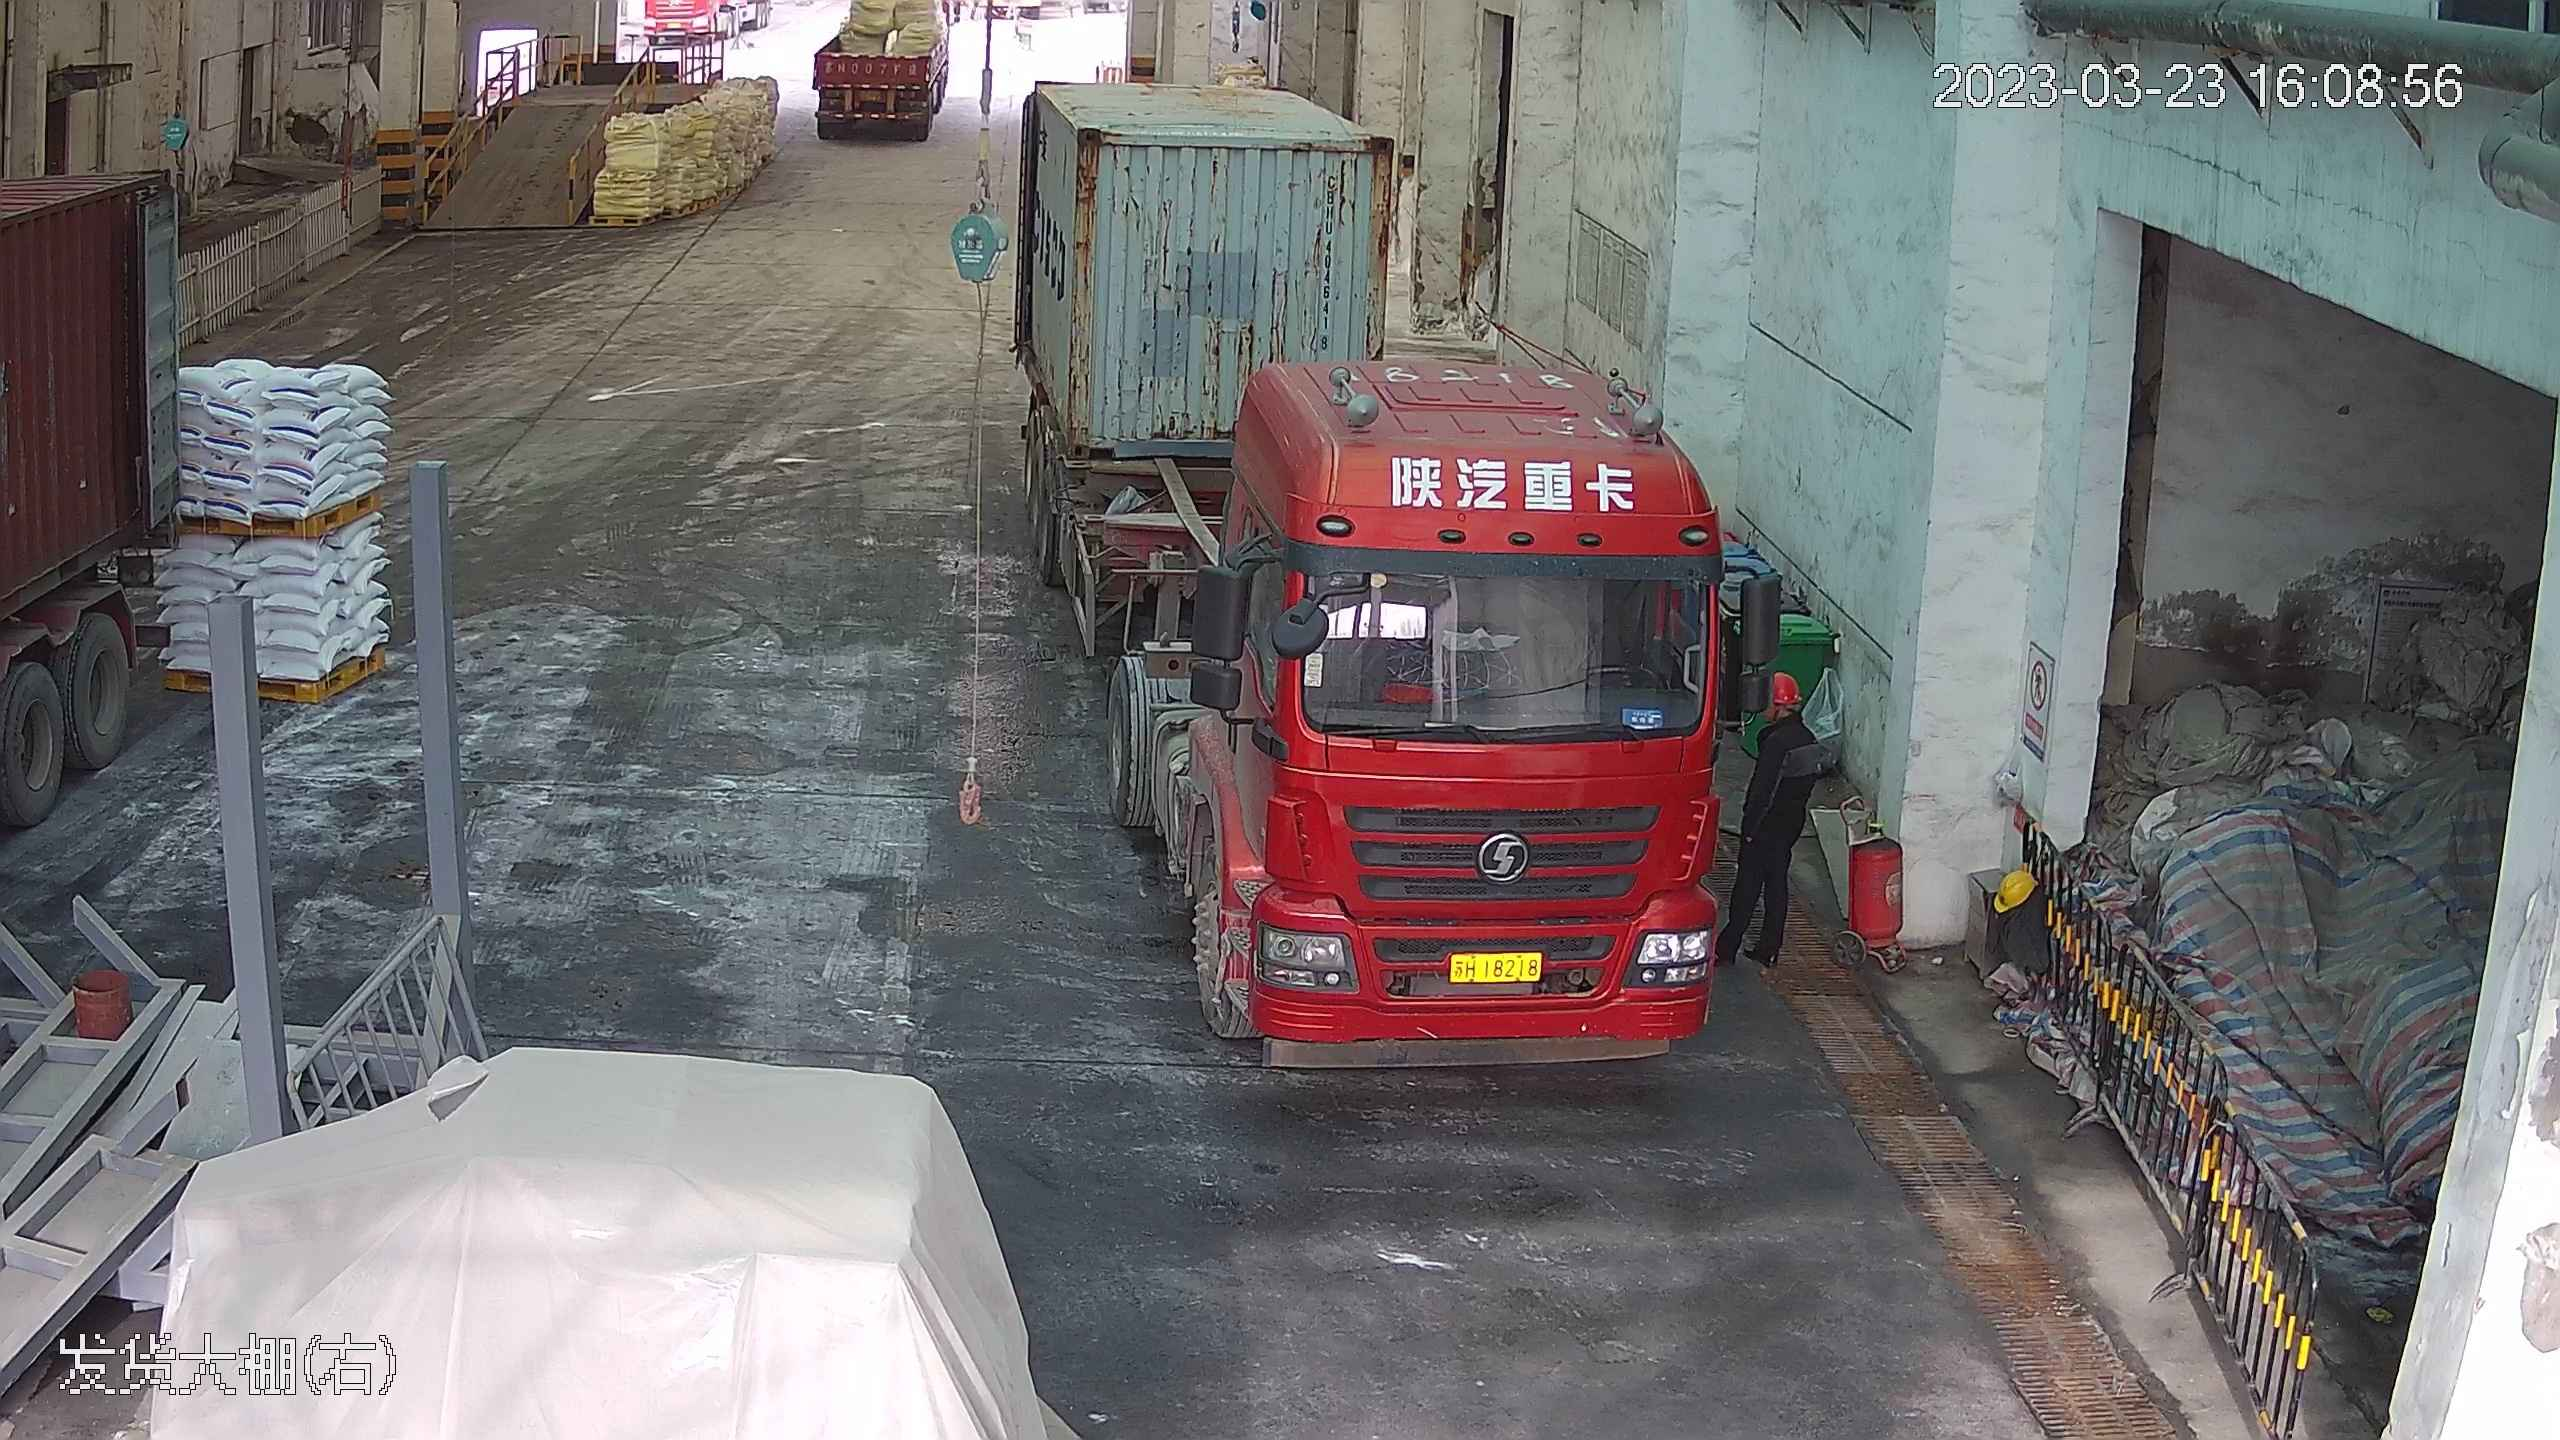head: (1747, 668, 1820, 761)
helmet: (1764, 668, 1803, 704)
people: (1719, 664, 1826, 971)
truck: (992, 27, 1749, 1071), (1, 33, 198, 1034), (800, 1, 959, 142)
